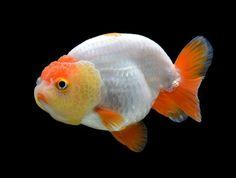goldfish: (25, 22, 212, 153)
